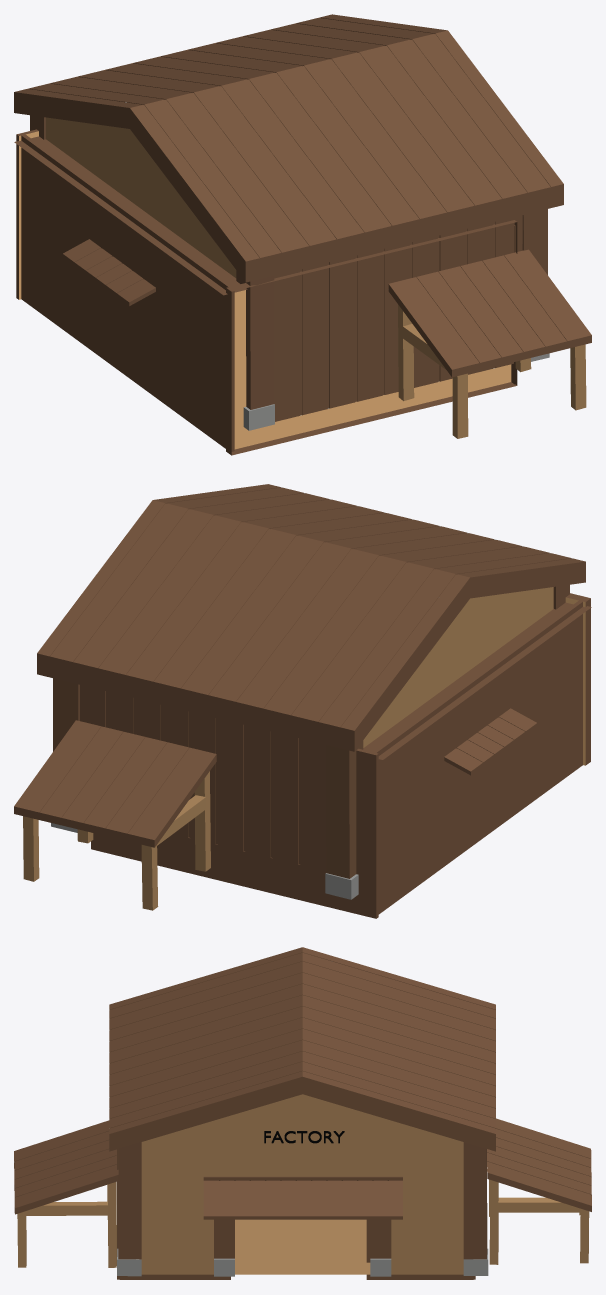
Rendered from factory_colored.fbx.
3 views of the same model, one above another, from view 1: azimuth 30°, elevation 25°; view 2: azimuth 150°, elevation 25°; view 3: azimuth 270°, elevation 25° (orthographic). The views are drawn at different scales.
Visible parts, largest first — view 1: Cube.001, Cube.002; view 2: Cube.001, Cube.002; view 3: Cube.001, Cube.002, Text.
Boxes of the visible parts, x1=… form: Cube.001: x1=14, y1=14, x2=591, y2=438; Cube.002: x1=14, y1=129, x2=517, y2=455; Cube.001: x1=14, y1=484, x2=585, y2=910; Cube.002: x1=91, y1=593, x2=591, y2=918; Cube.001: x1=14, y1=947, x2=591, y2=1276; Cube.002: x1=117, y1=1149, x2=475, y2=1279; Text: x1=264, y1=1131, x2=344, y2=1143.
Size of the model in its own units: 2820 by 1841 by 4372.
